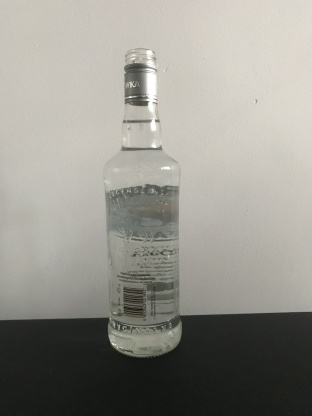nakretka: (122, 46, 159, 106)
